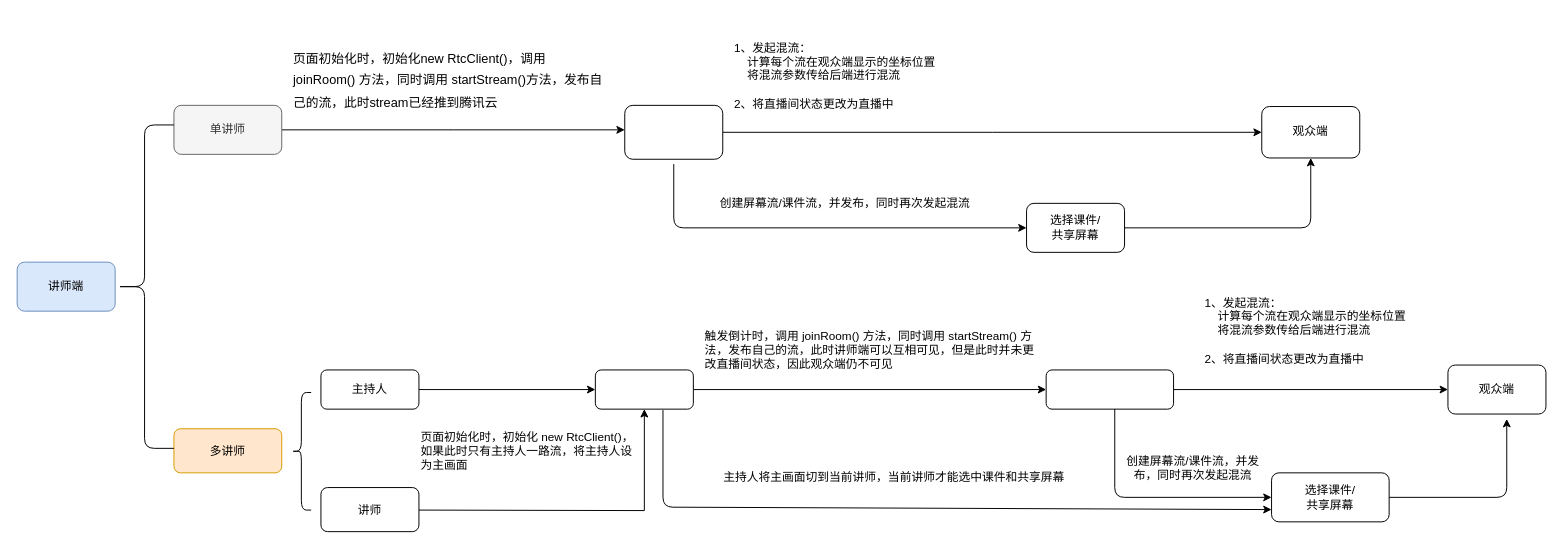
Some shapes in this 1563 by 549 pixel diagram are drawn without their labels. The centre of each missing label's shape, as x and y in pixels:
"主持人 点击 开始直播" goes at [1109,389].
"点击准备好了" goes at [643,389].
"点击开始直播" goes at [673,131].
